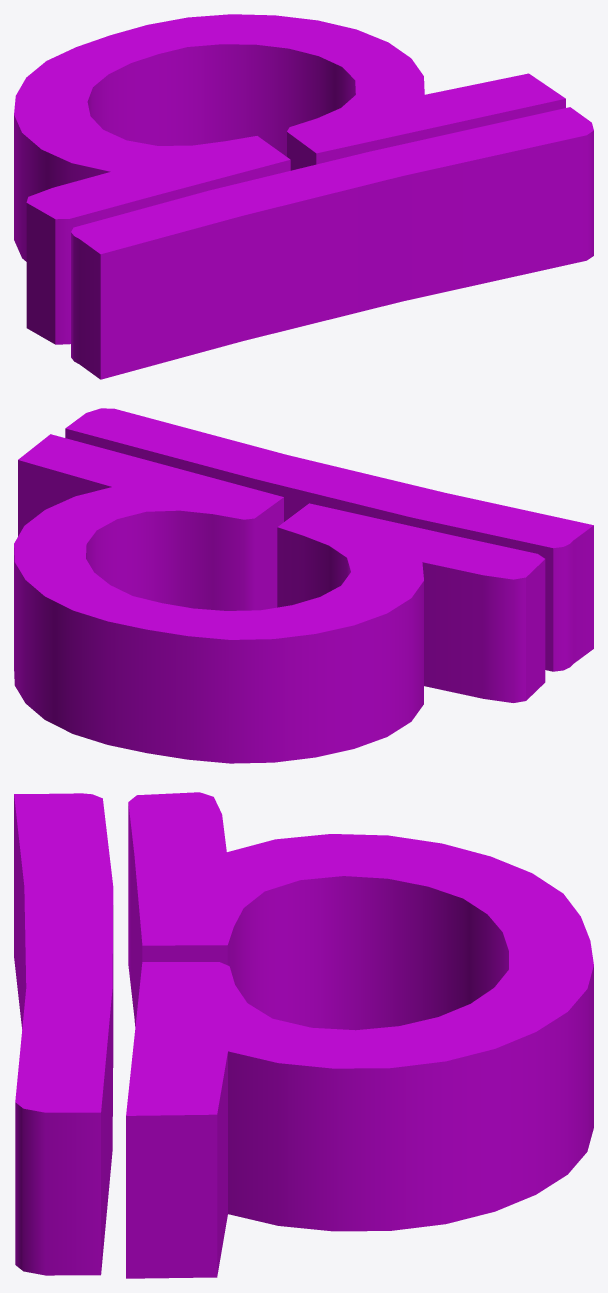
Rendered from libra.fbx.
The picture shows the model from 3 angles, top to bottom: view 1: azimuth 30°, elevation 25°; view 2: azimuth 150°, elevation 25°; view 3: azimuth 270°, elevation 25°; orthographic projection. The views are drawn at different scales.
Visible parts, largest first — view 1: 7.LIBRA; view 2: 7.LIBRA; view 3: 7.LIBRA.
Part boxes in pixels (bbox=[...]): 7.LIBRA: bbox=[14, 14, 593, 379]; 7.LIBRA: bbox=[14, 408, 593, 763]; 7.LIBRA: bbox=[14, 792, 593, 1278].
Size of the model in its own units: 152 by 35.7 by 115.
